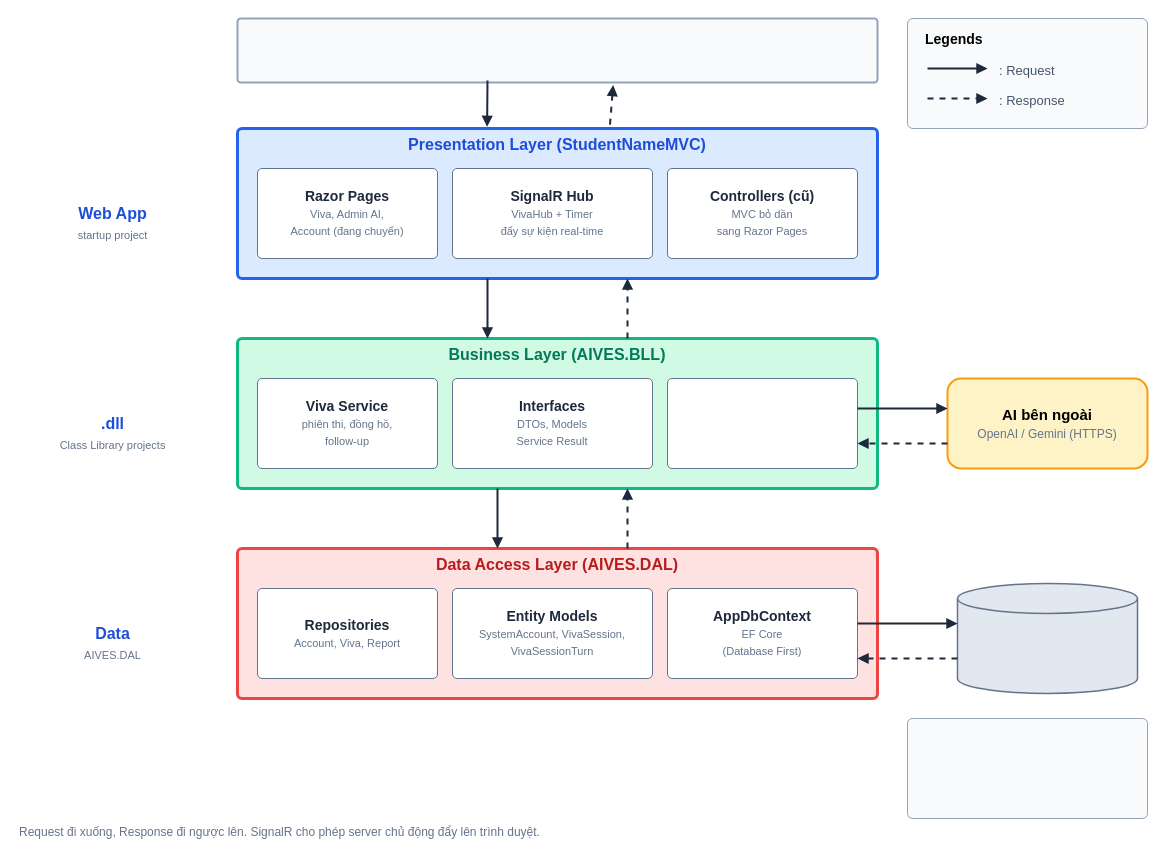
Image size: 1165x865. Some labels were removed from this diagram. The centre of each missing label's shape, as x and y in pixels:
AI Providers STT, TTS, LLM OpenAI / Gemini: pixel 762 423
Project references Web → BLL BLL → DAL: pixel 1027 768
SQL Server AIVES (DB): pixel 1047 638
Trình duyệt (người dùng) HTML, Bootstrap, SignalR client: pixel 557 50
